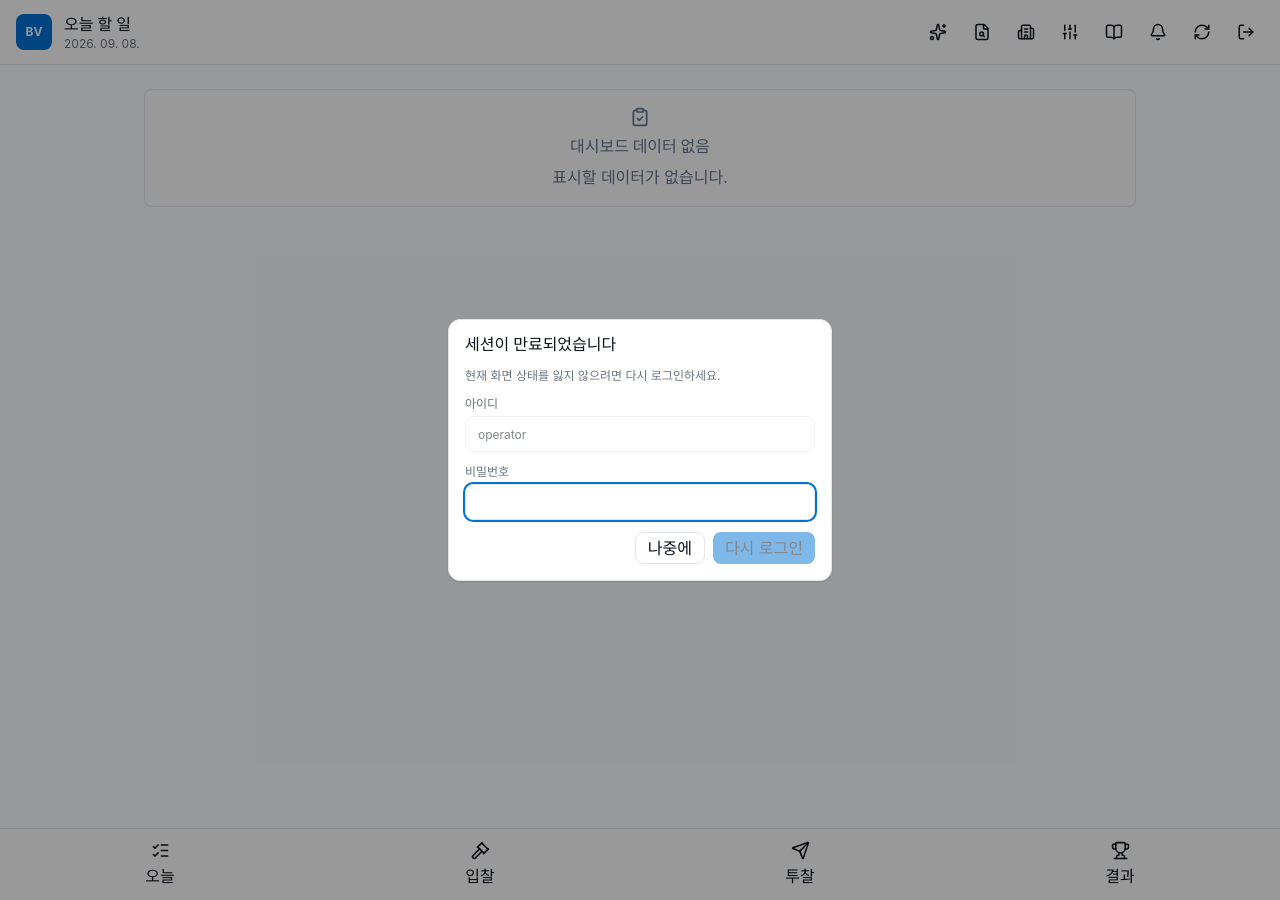
Scenario: SessionExpiredModal › 401 응답 시 자동으로 세션 만료 모달이 노출되고 재로그인이 가능하다
Type "secret" into the password field labelled "비밀번호" at (640, 502), box [465, 484, 815, 520]
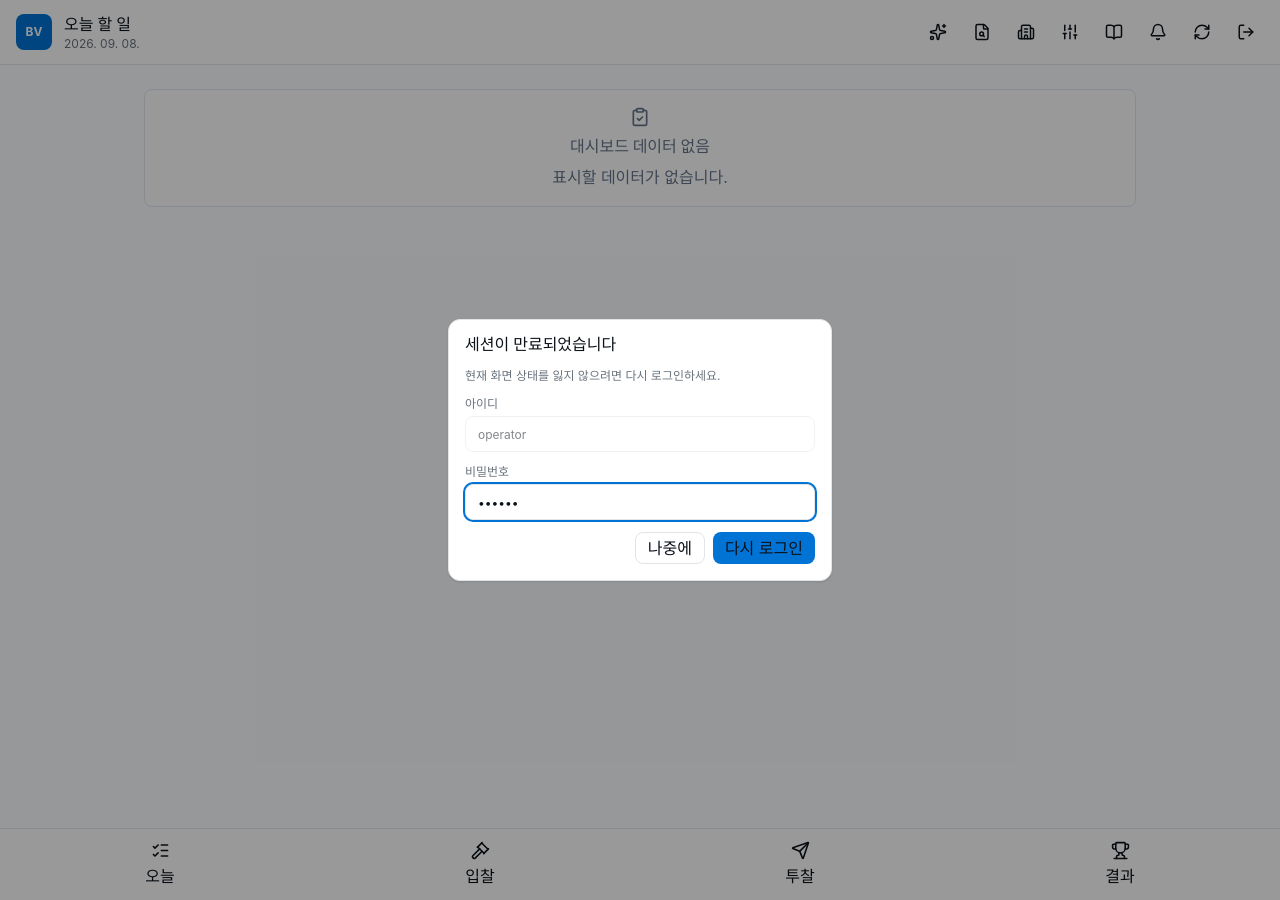
Click the button "다시 로그인" at (764, 548), box [713, 532, 815, 564]
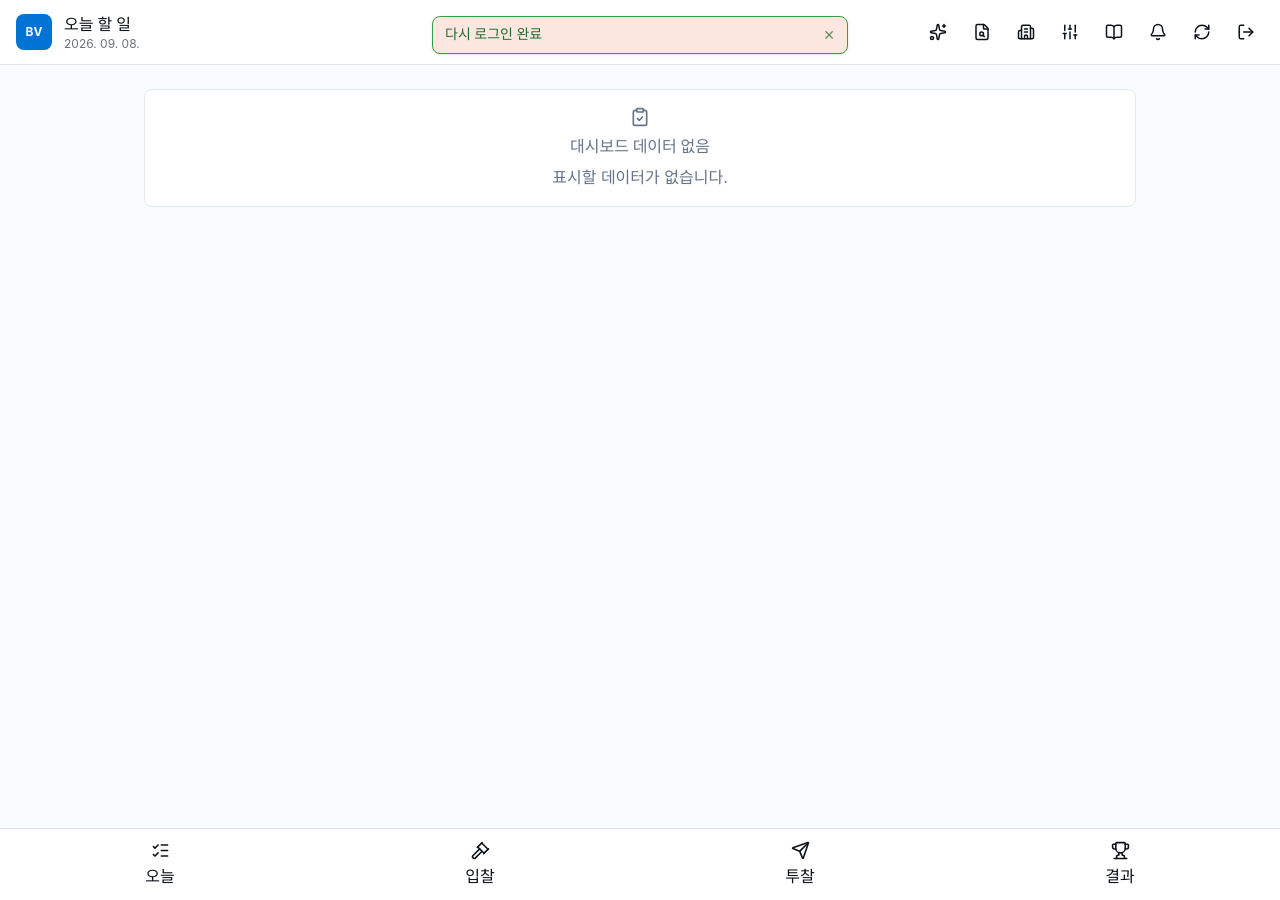
Expected: the text "다시 로그인 완료" is shown, [445, 25, 542, 42]
